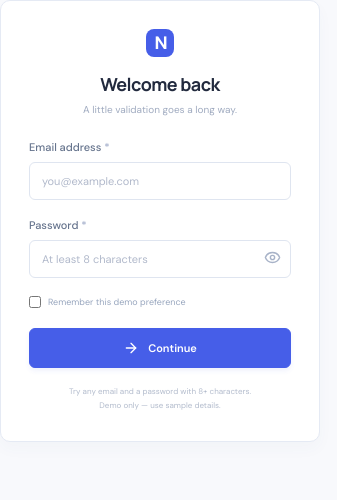
Test: LoginForm › shows required errors and blocks an empty submission
Click the button "Continue" at (160, 348), box top-left (29, 328), bottom-right (291, 368)
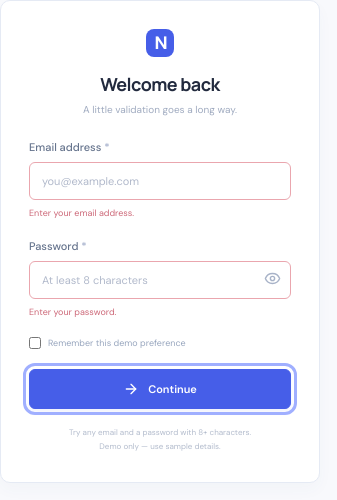
Expected: the number of messages is 2, top-left (29, 207), bottom-right (134, 219); top-left (29, 306), bottom-right (116, 318)
